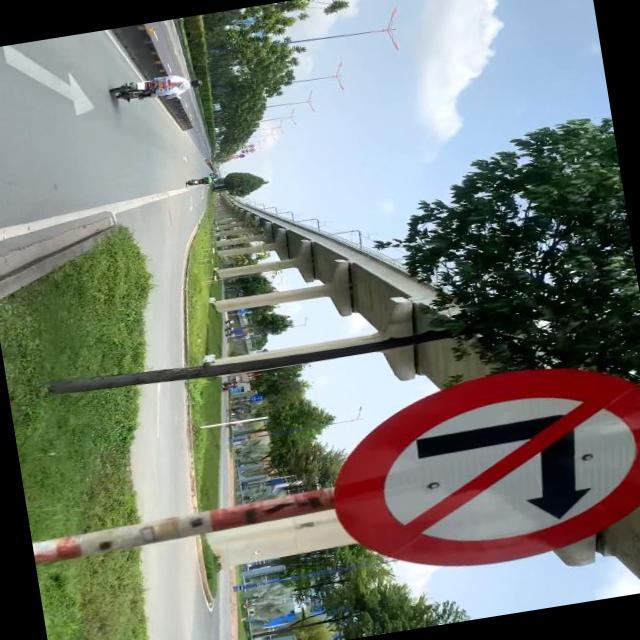P-123b: (316, 349, 640, 589)
